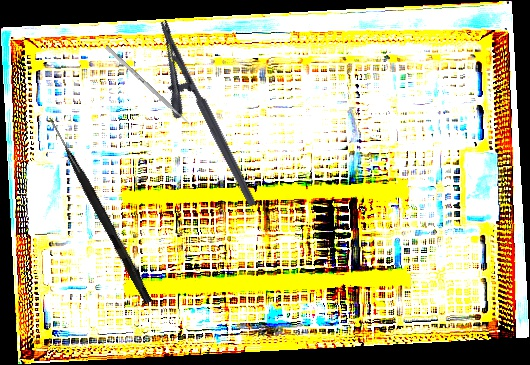Hook Surgical: (44, 116, 155, 305)
Needle Holder: (133, 18, 258, 220)
Pusher: (104, 45, 197, 131)
